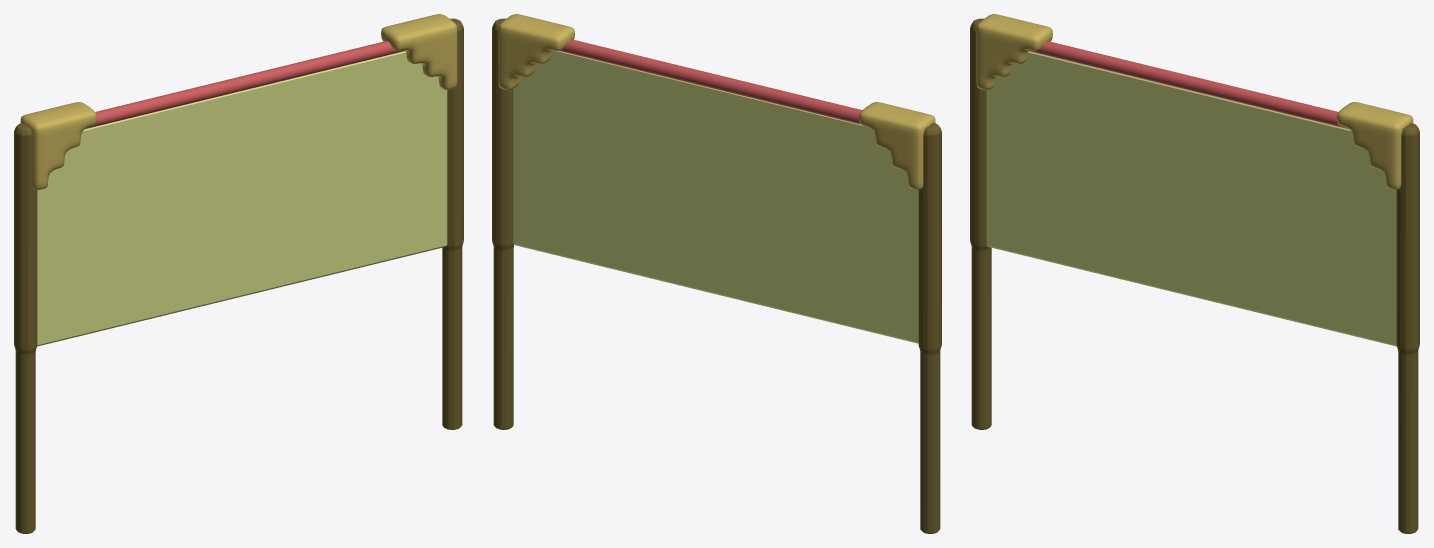
The model's file is Hurdle_new.fbx.
3 views of the same model, side by side, from view 1: azimuth 30°, elevation 25°; view 2: azimuth 150°, elevation 25°; view 3: azimuth 330°, elevation 25° (orthographic).
Parts seen in each view (by area): view 1: pCube1, pCylinder6, pCylinder5, pCylinder3, pCube5, pCube6; view 2: pCube1, pCylinder6, pCylinder5, pCylinder3, pCube5, pCube6; view 3: pCube1, pCylinder5, pCylinder6, pCylinder3, pCube6, pCube5.
Part boxes in pixels (left/top/right/bottom): pCube1: left=37, top=51, right=447, bottom=346; pCylinder6: left=14, top=123, right=37, bottom=533; pCylinder5: left=442, top=18, right=463, bottom=429; pCylinder3: left=86, top=41, right=405, bottom=128; pCube5: left=381, top=14, right=457, bottom=90; pCube6: left=20, top=102, right=96, bottom=189; pCube1: left=513, top=50, right=918, bottom=343; pCylinder6: left=918, top=123, right=941, bottom=533; pCylinder5: left=492, top=18, right=513, bottom=429; pCylinder3: left=559, top=39, right=861, bottom=123; pCube5: left=498, top=14, right=574, bottom=90; pCube6: left=859, top=102, right=935, bottom=189; pCube1: left=986, top=51, right=1396, bottom=346; pCylinder5: left=1396, top=123, right=1419, bottom=533; pCylinder6: left=970, top=18, right=991, bottom=429; pCylinder3: left=1028, top=41, right=1347, bottom=128; pCube6: left=976, top=14, right=1052, bottom=89; pCube5: left=1337, top=102, right=1413, bottom=189.
Bounding box in the file's own units: 15.02 × 13.18 × 1.04.
